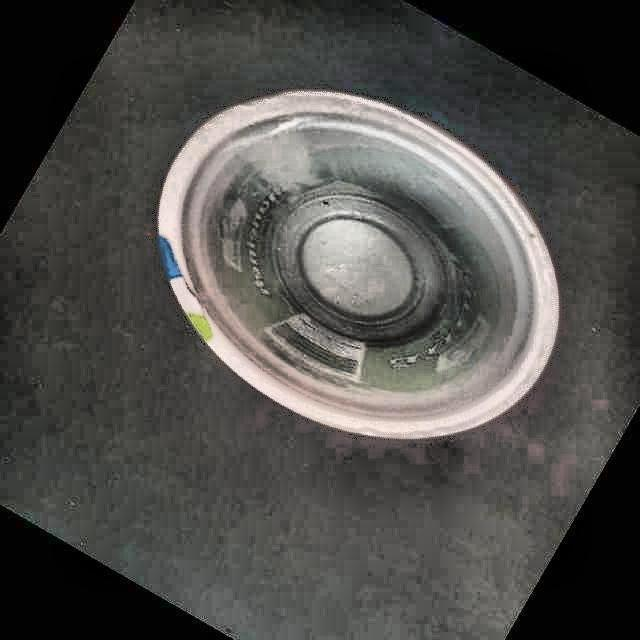plastic: (158, 90, 559, 439)
